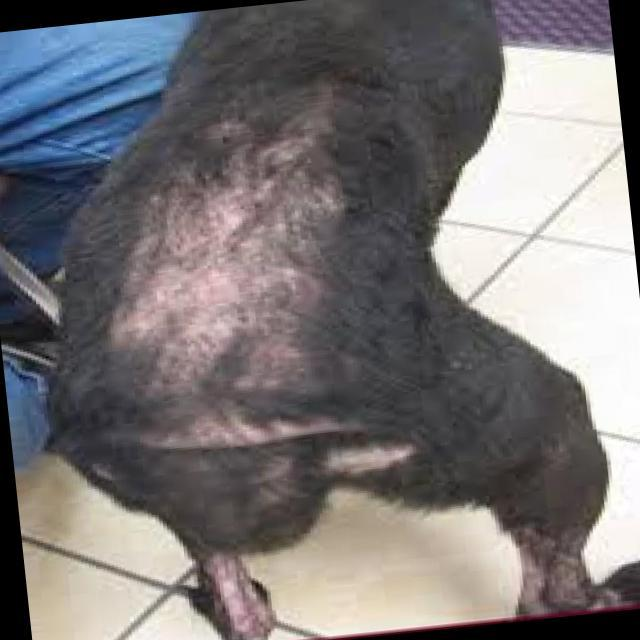allergic dermatitis: (128, 99, 350, 407)
